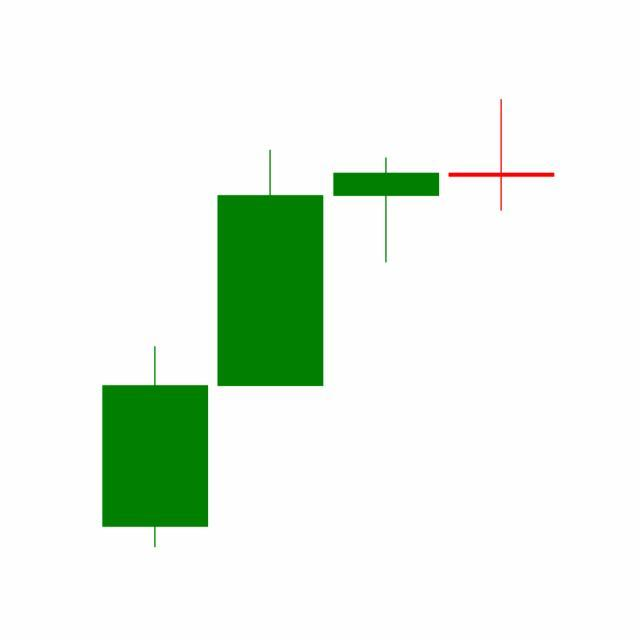Spinning Top: (444, 99, 560, 214)
